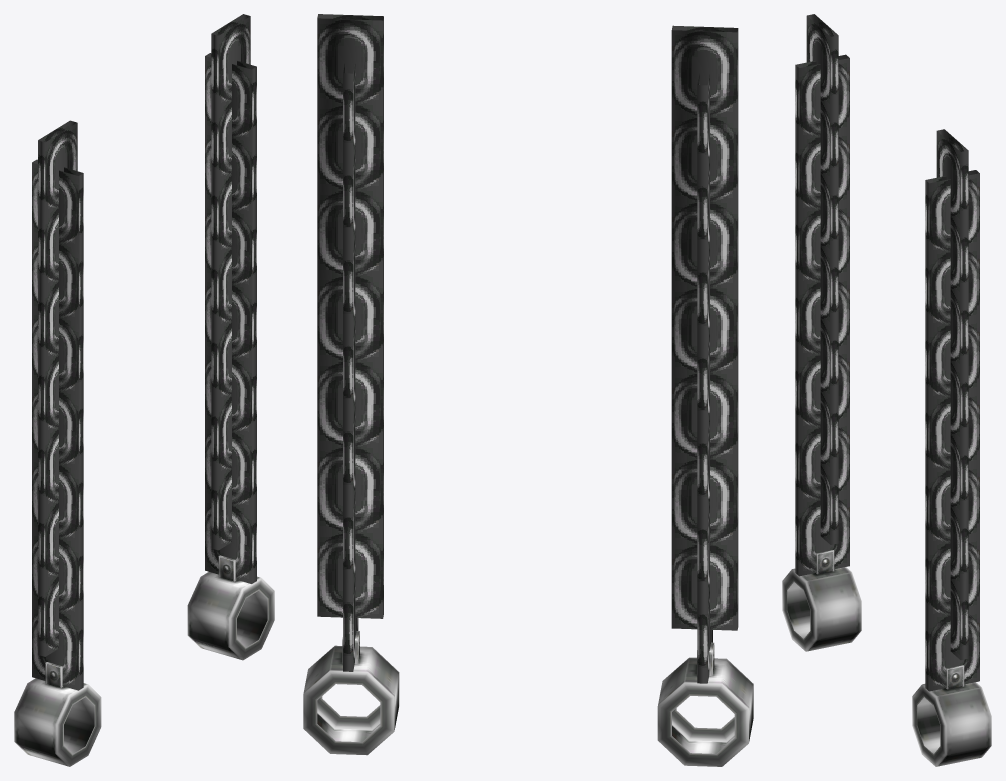
The model's file is SWORDLIGHT20_INST_CHAINCUFFS_LOD1_08.fbx.
3 renders of one model, left to right at view 1: azimuth 30°, elevation 25°; view 2: azimuth 150°, elevation 25°; view 3: azimuth 270°, elevation 25°, orthographic. The views are drawn at different scales.
Parts seen in each view (by area): view 1: SWORDLIGHT20_INST_CHAINCUFFS_LOD1_08; view 2: SWORDLIGHT20_INST_CHAINCUFFS_LOD1_08; view 3: SWORDLIGHT20_INST_CHAINCUFFS_LOD1_08.
Part boxes in pixels (x1,y1,x2,y2): SWORDLIGHT20_INST_CHAINCUFFS_LOD1_08: [14, 14, 274, 766]; SWORDLIGHT20_INST_CHAINCUFFS_LOD1_08: [303, 14, 753, 766]; SWORDLIGHT20_INST_CHAINCUFFS_LOD1_08: [782, 14, 991, 766].
Size of the model in its own units: 6503 by 12114 by 3737.
Materials: 2 (2 with a texture image).
